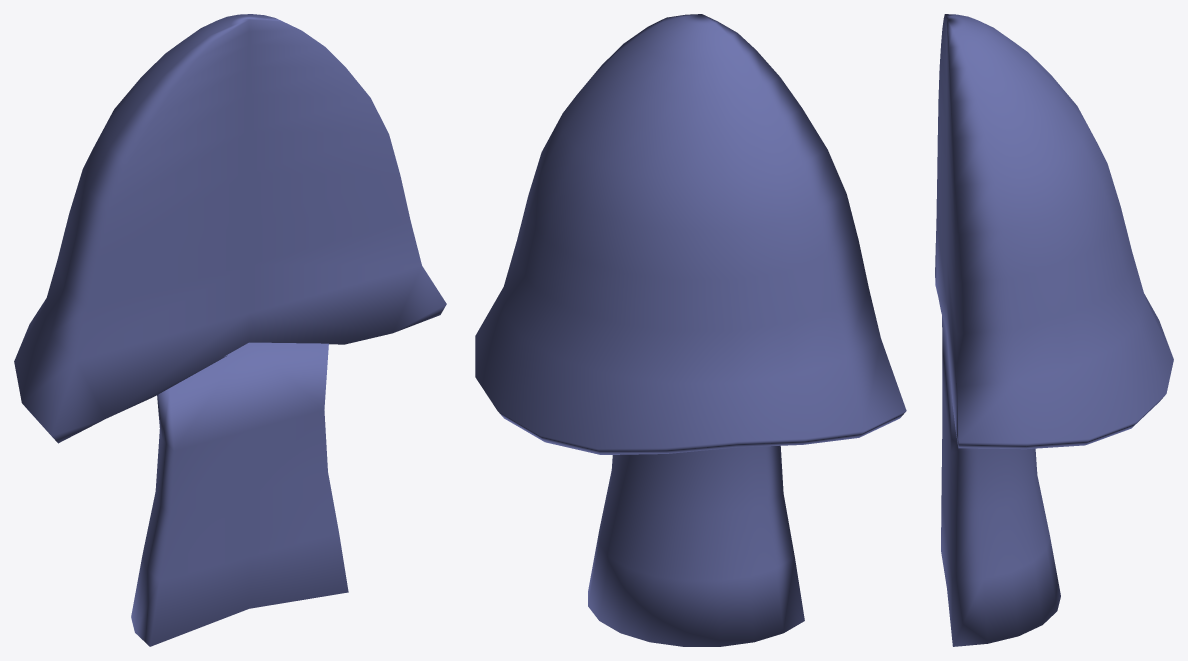
File: Ingredient_Mushroom_Half.fbx
The picture shows the model from 3 angles, left to right: view 1: azimuth 30°, elevation 25°; view 2: azimuth 150°, elevation 25°; view 3: azimuth 270°, elevation 25°; orthographic projection. The views are drawn at different scales.
Visible parts, largest first — view 1: Mushroom_Half; view 2: Mushroom_Half; view 3: Mushroom_Half.
Boxes of the visible parts, x1,y1,x2,y2 form: Mushroom_Half: [14, 14, 446, 646]; Mushroom_Half: [475, 14, 906, 646]; Mushroom_Half: [935, 14, 1173, 646].
Bounding box in the file's own units: 21.22 × 29.86 × 11.17.
